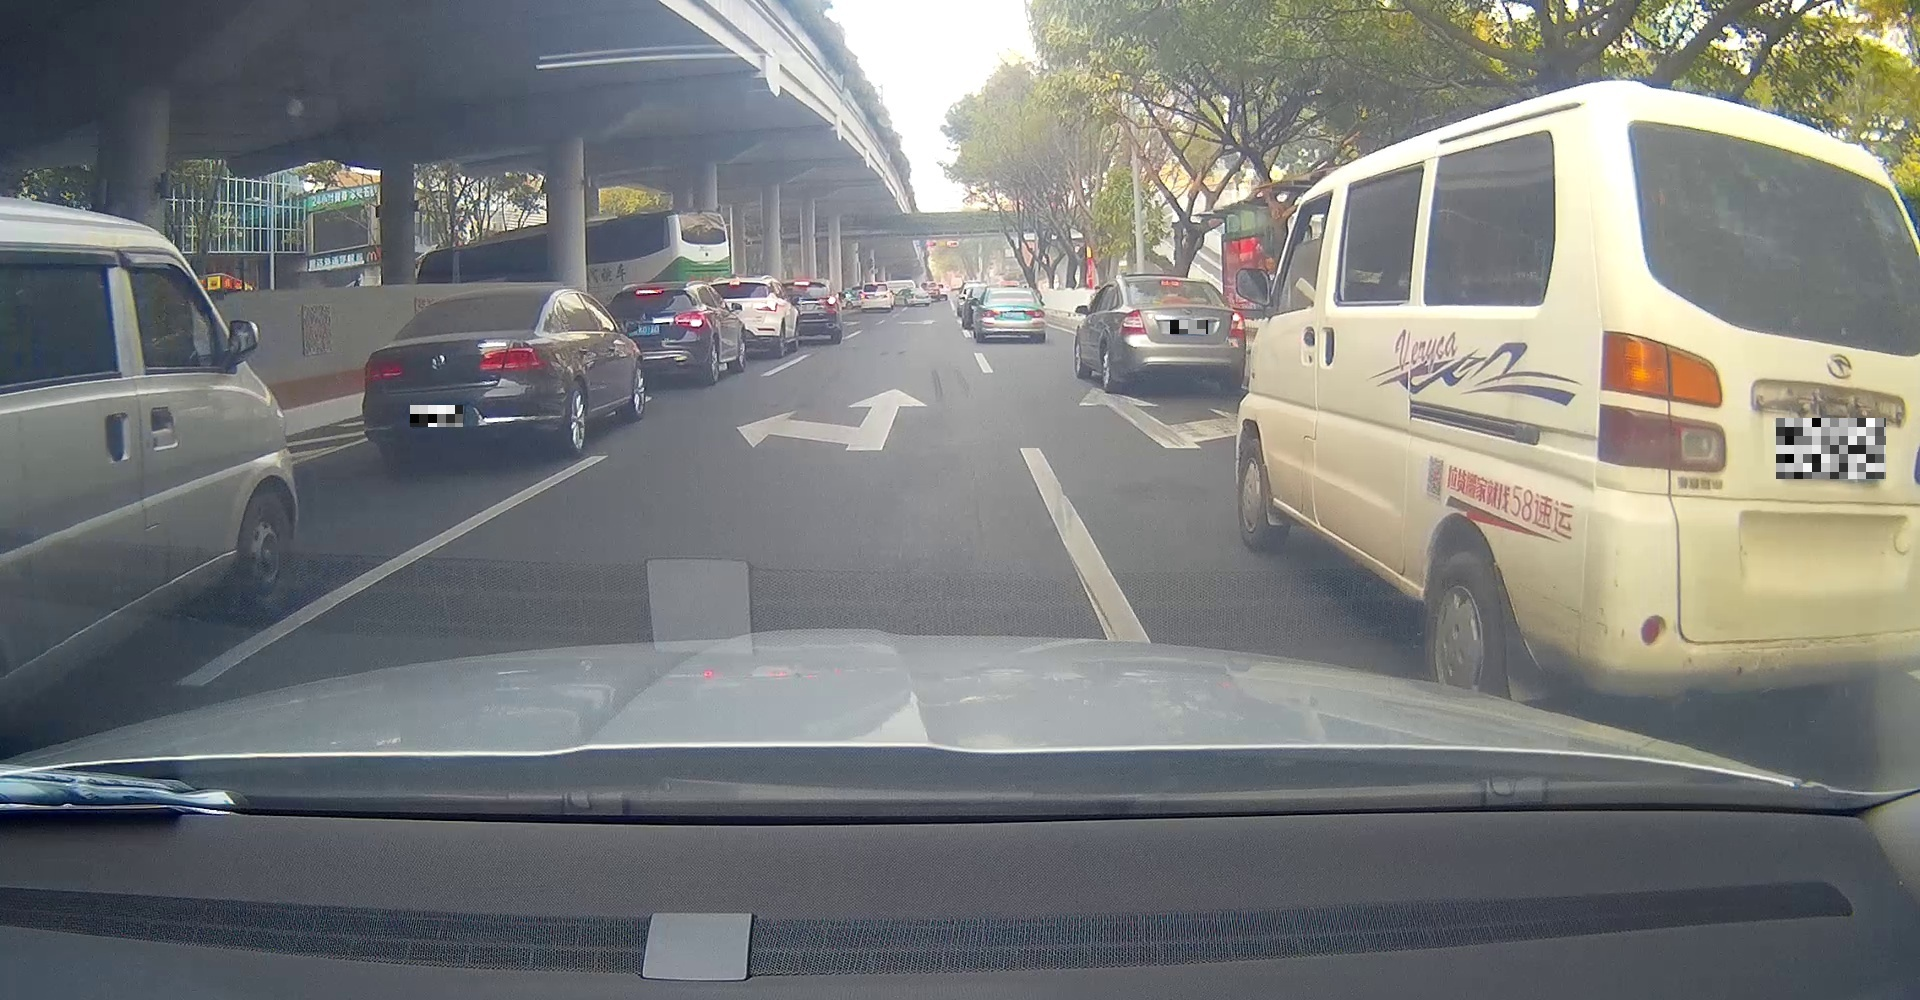L_light: (364, 357, 403, 382), (1117, 308, 1147, 336), (982, 310, 999, 317)
R_light: (477, 345, 543, 373), (1228, 311, 1246, 338), (1025, 308, 1045, 317)
T_light: (469, 298, 488, 305), (1161, 280, 1178, 286), (1006, 291, 1016, 294)
day-brake: (1116, 275, 1247, 393)
day-no: (361, 288, 552, 464), (979, 286, 1046, 341)
plate_1: (410, 405, 463, 426)
plate_2: (1170, 320, 1208, 334)
plate_3: (1777, 418, 1886, 478)
